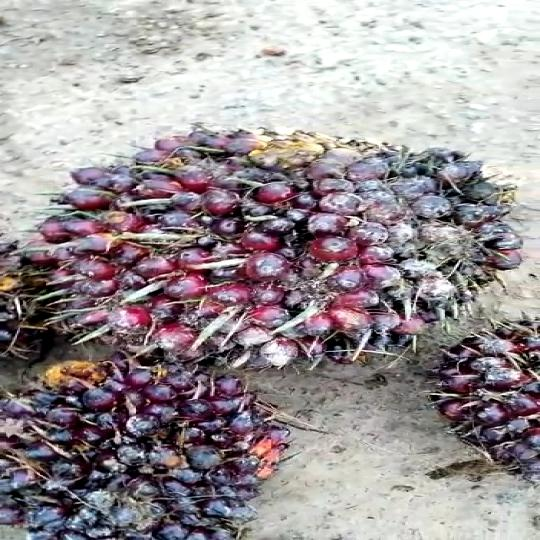kurang masak: (0, 133, 529, 363), (0, 353, 276, 540)
